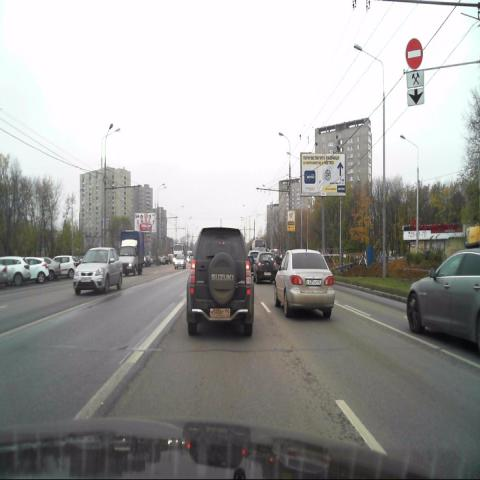8_5_2: (407, 71, 424, 88)
